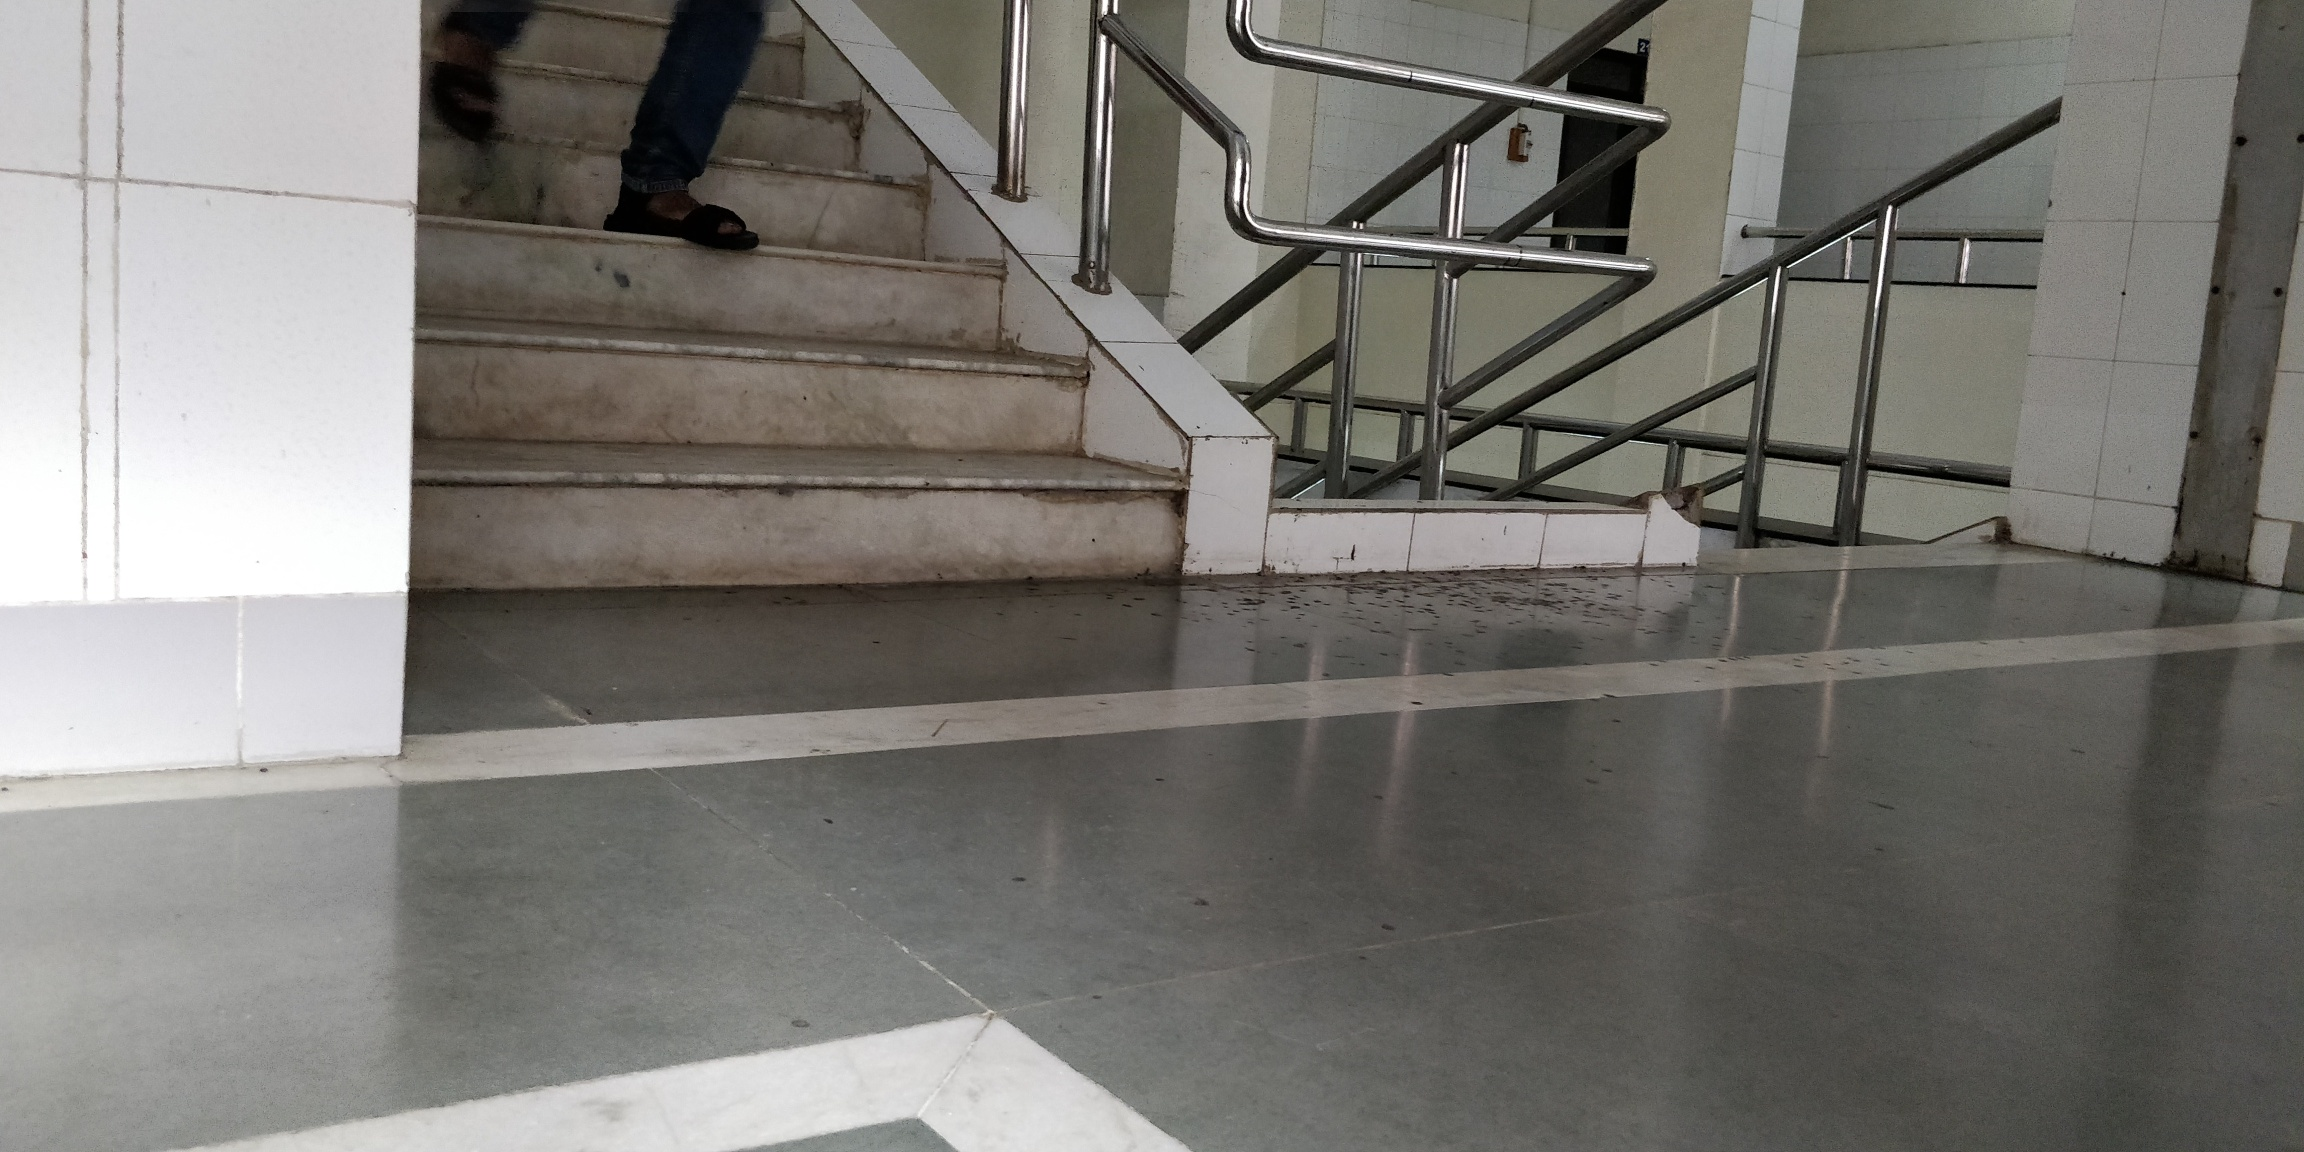stairs_up: (341, 1, 1214, 604)
